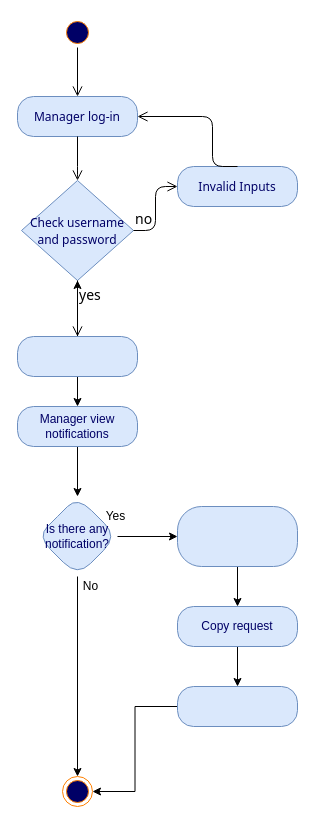
Image size: 315x824. Some labels were removed from this diagram. Here are the shapes that lost their labels. From the top down, the centre of each, then its label:
At (x=77, y=356): "Manager is Logged In".
At (x=237, y=536): "Check new notification".
At (x=237, y=706): "Send request to employees".
